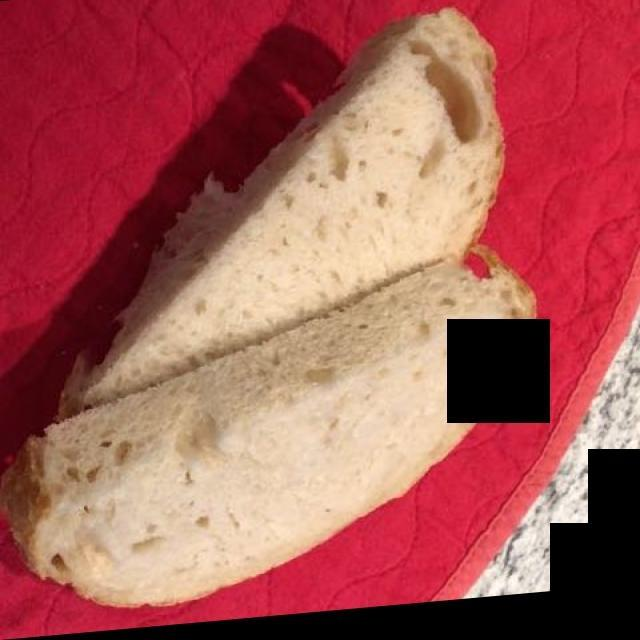bread: (26, 24, 529, 605)
